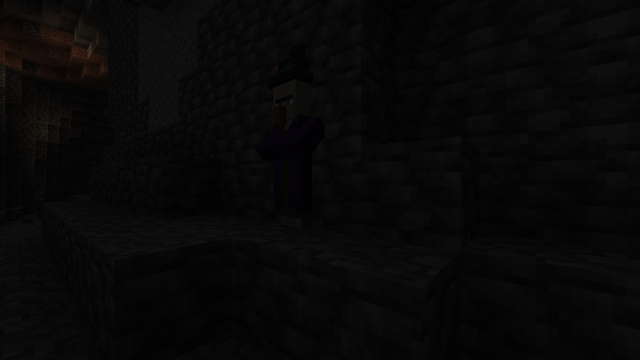sorcieres: (266, 69, 313, 230)
